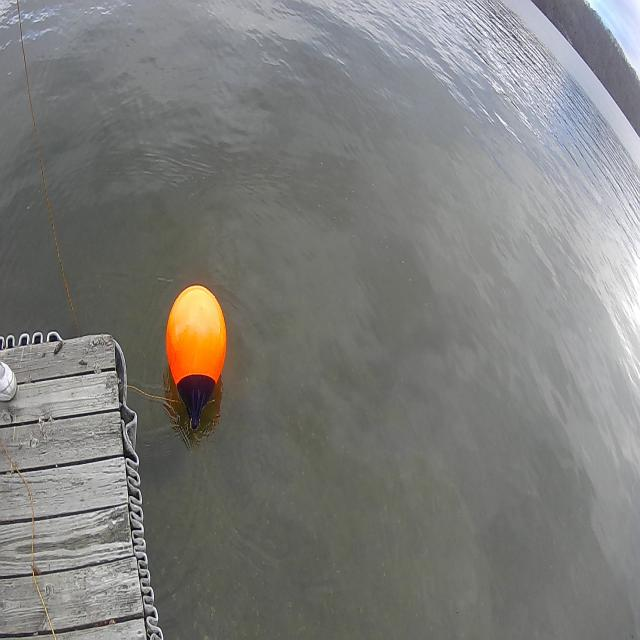Buoy: (164, 274, 229, 438)
